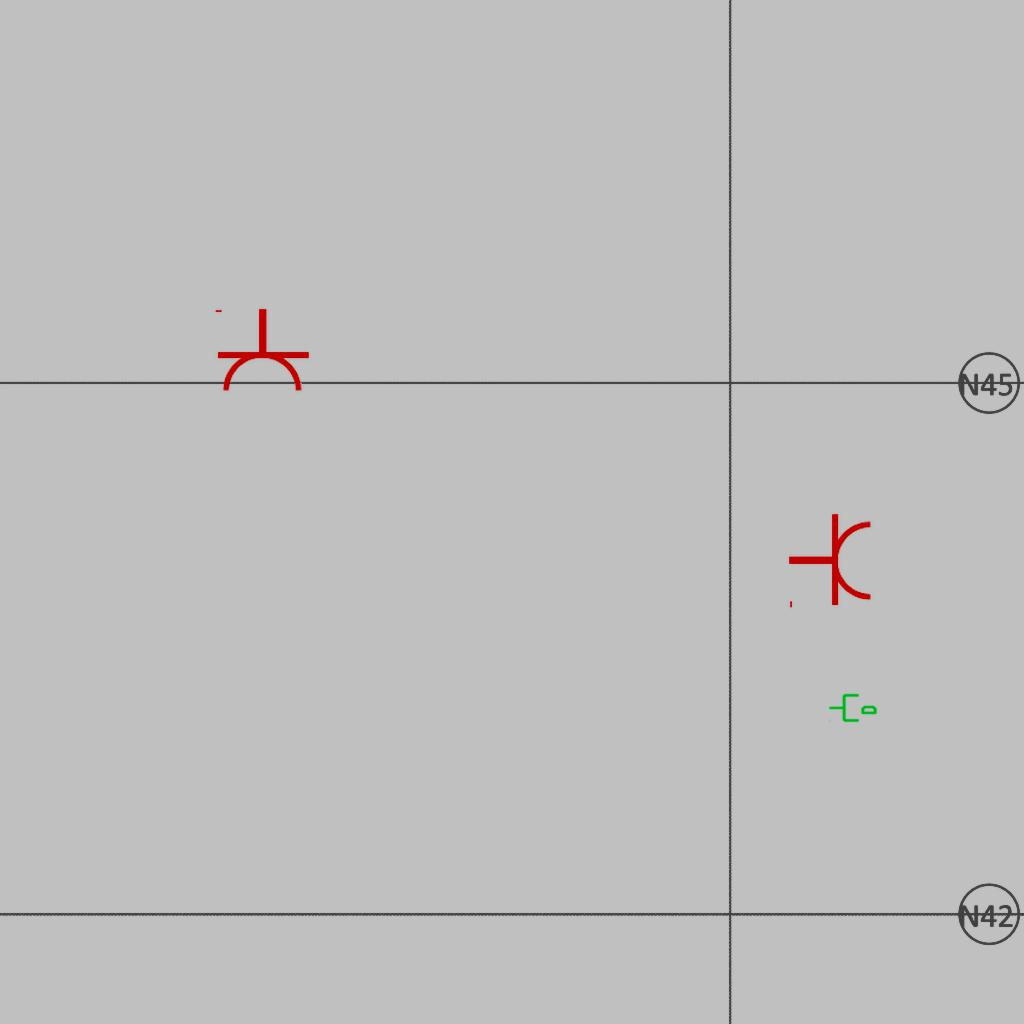Datenanschluss_einfach: (828, 690, 878, 724)
Schukosteckdose_einfach: (211, 307, 311, 394), (787, 512, 874, 612)
